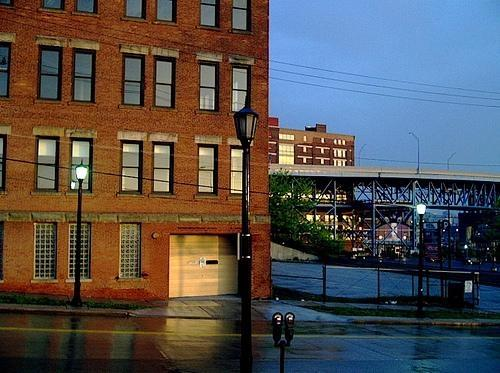car: (463, 257, 482, 265), (425, 255, 444, 263)
